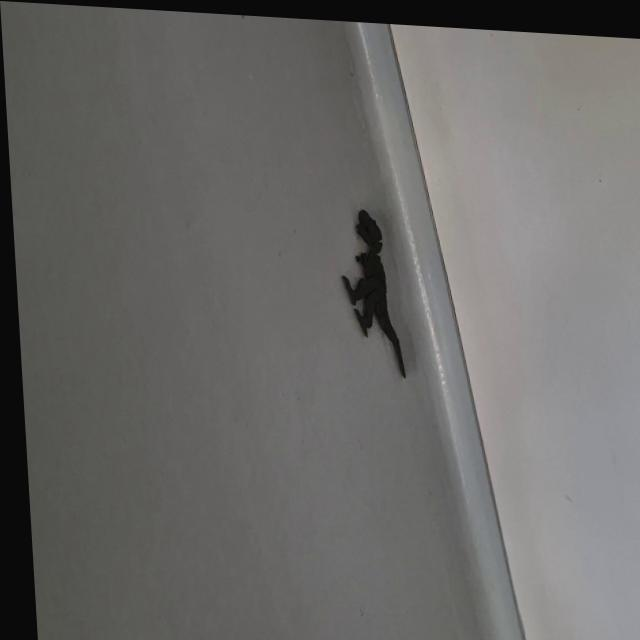dino: (337, 207, 406, 378)
